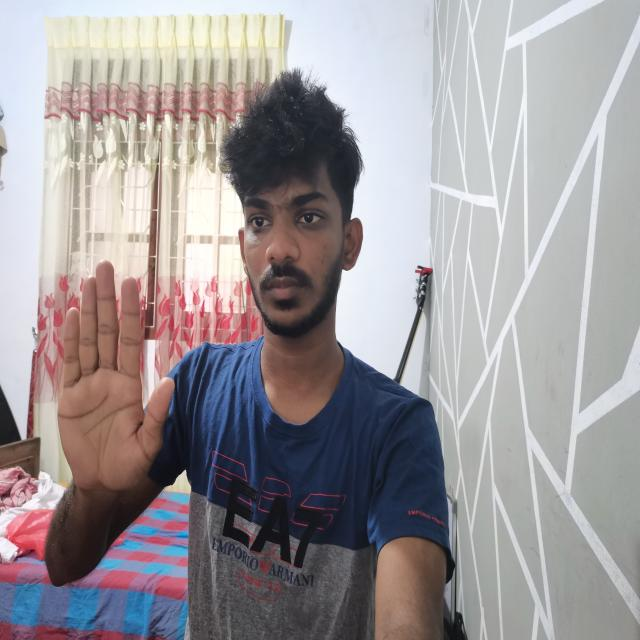Hello: (53, 247, 177, 505)
